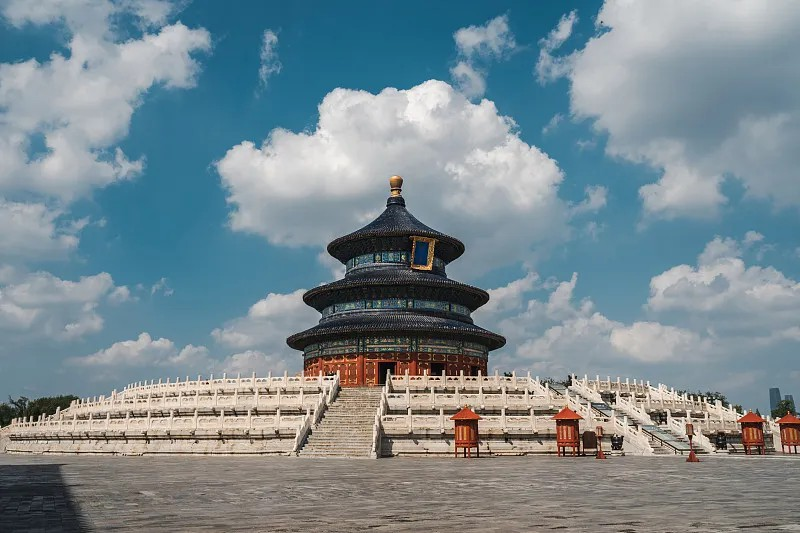Heaven: (284, 175, 508, 387)
